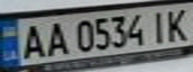0: (72, 17, 96, 53)
3: (109, 12, 130, 48)
4: (127, 10, 151, 47)
5: (90, 16, 115, 52)
A: (15, 20, 48, 61), (42, 19, 69, 57)
I: (145, 7, 169, 44)
K: (163, 6, 193, 42)
